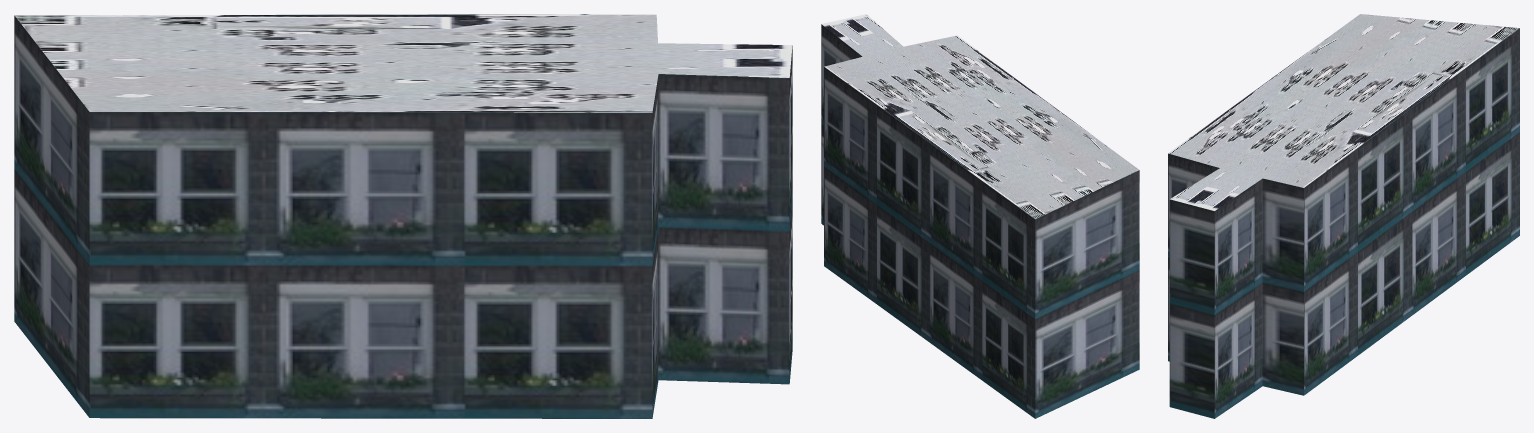
The model's file is ResTex__5254.fbx.
The picture shows the model from 3 angles, left to right: view 1: azimuth 30°, elevation 25°; view 2: azimuth 150°, elevation 25°; view 3: azimuth 270°, elevation 25°; orthographic projection. The views are drawn at different scales.
Parts seen in each view (by area): view 1: CityEngineMaterial_11_m, CityEngineMaterial_2_m; view 2: CityEngineMaterial_11_m, CityEngineMaterial_2_m; view 3: CityEngineMaterial_11_m, CityEngineMaterial_2_m.
Boxes of the visible parts, x1,y1,x2,y2 form: CityEngineMaterial_11_m: (14,15,792,418); CityEngineMaterial_2_m: (14,14,792,112); CityEngineMaterial_11_m: (821,24,1139,418); CityEngineMaterial_2_m: (821,14,1138,219); CityEngineMaterial_11_m: (1168,28,1519,418); CityEngineMaterial_2_m: (1168,14,1519,210).
Bounding box in the file's own units: 12.21 × 6 × 9.2.
2 materials, 2 textured.
